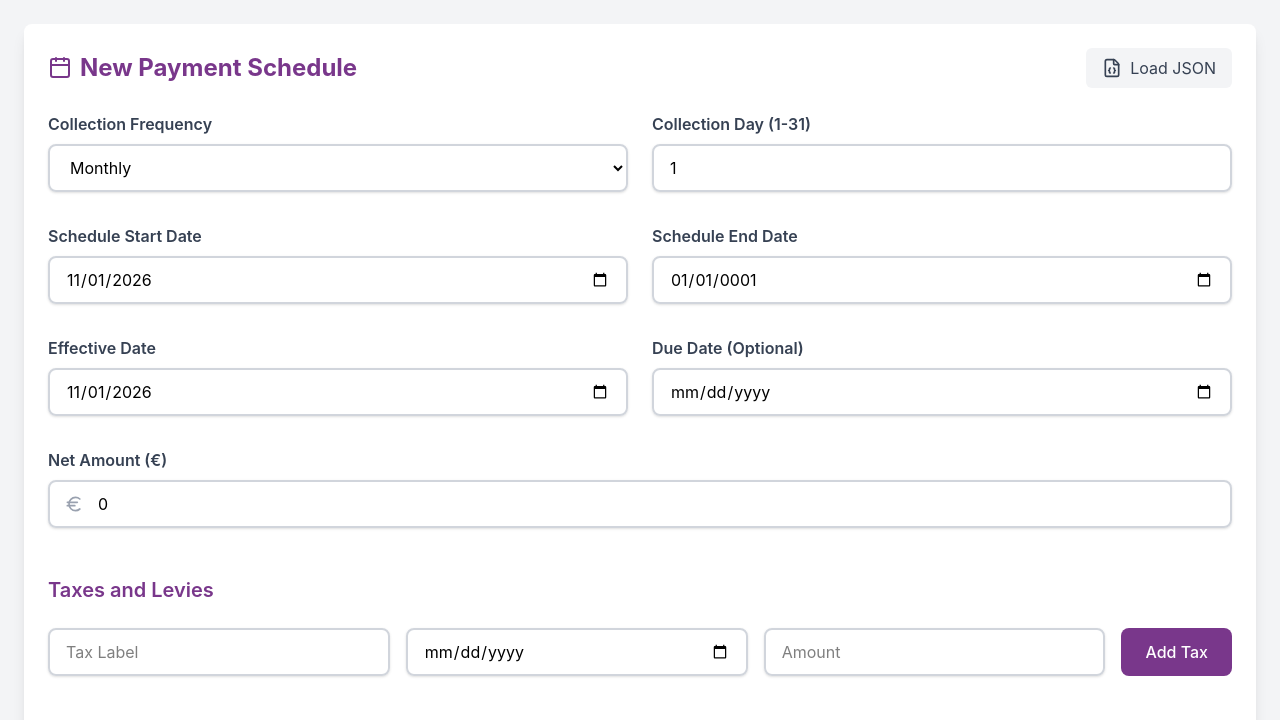
Scenario: NewSchedule › forces collection day to 0 and disables the field when frequency switches to Annual
The image size is (1280, 720).
Select "Annual" in the dropdown showing "Monthly" at [338, 168], box x1=48 y1=144 x2=628 y2=192
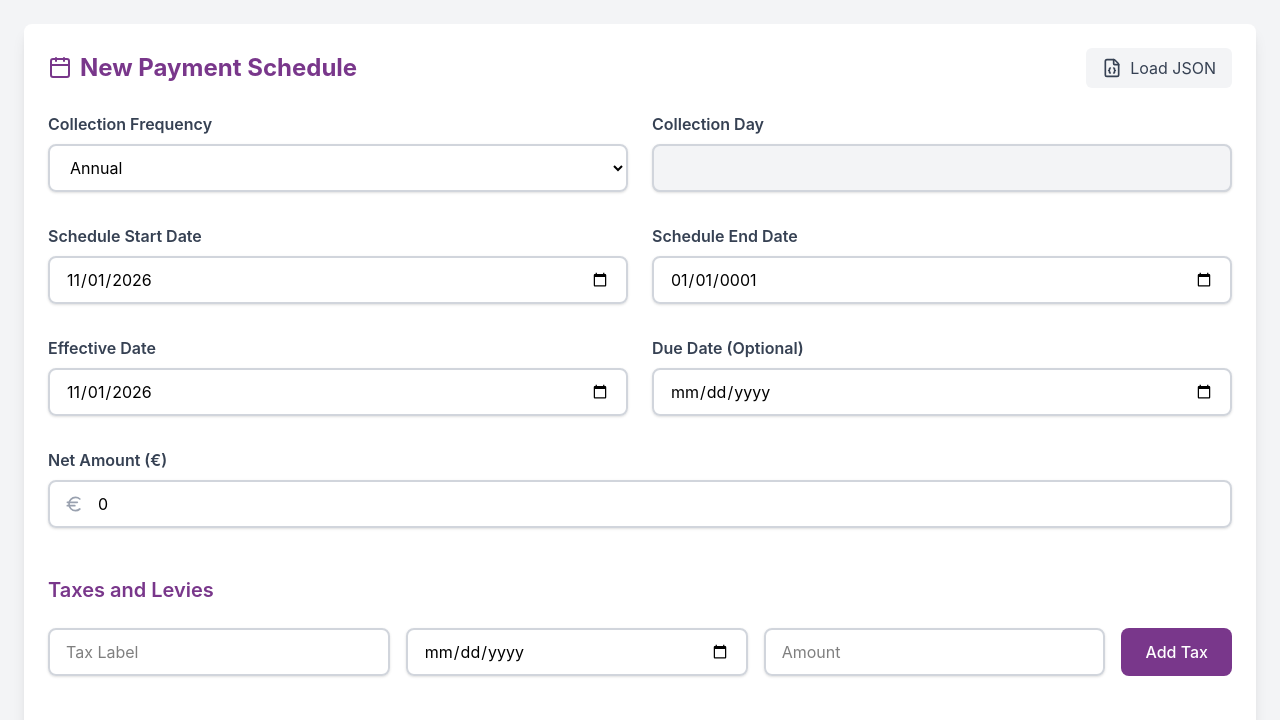
Expected: the number field named "collectionDay" is disabled, x1=652 y1=144 x2=1232 y2=192
Expected: the number field named "collectionDay" is empty, x1=652 y1=144 x2=1232 y2=192
